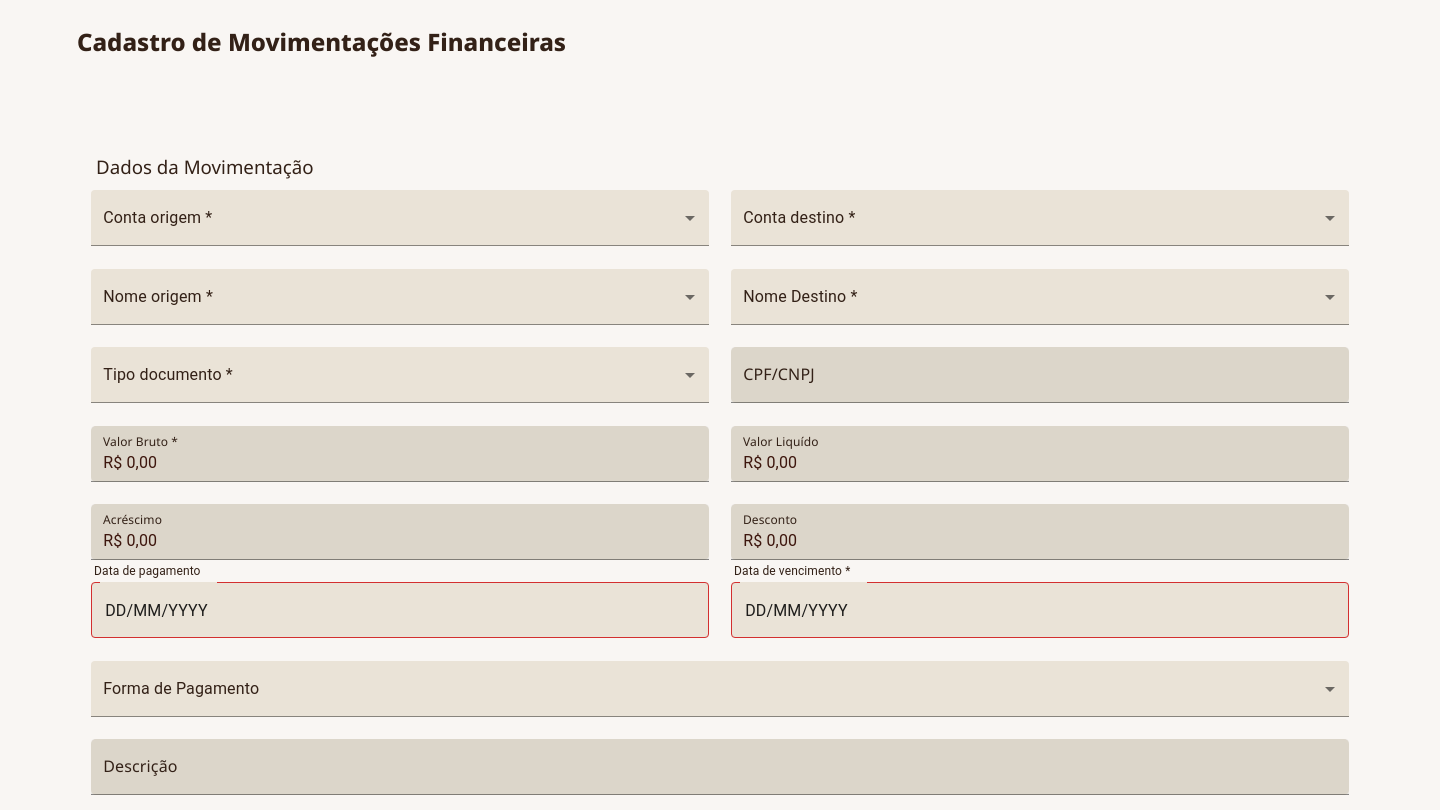
Test case: FinancialCreate Component › format CPF CNPJ correctly
# Testando a formatação do CPF
Step 1. Type "12345678901" into the field labelled "CPF/CNPJ" → (1040, 375), box [731,347,1349,403]
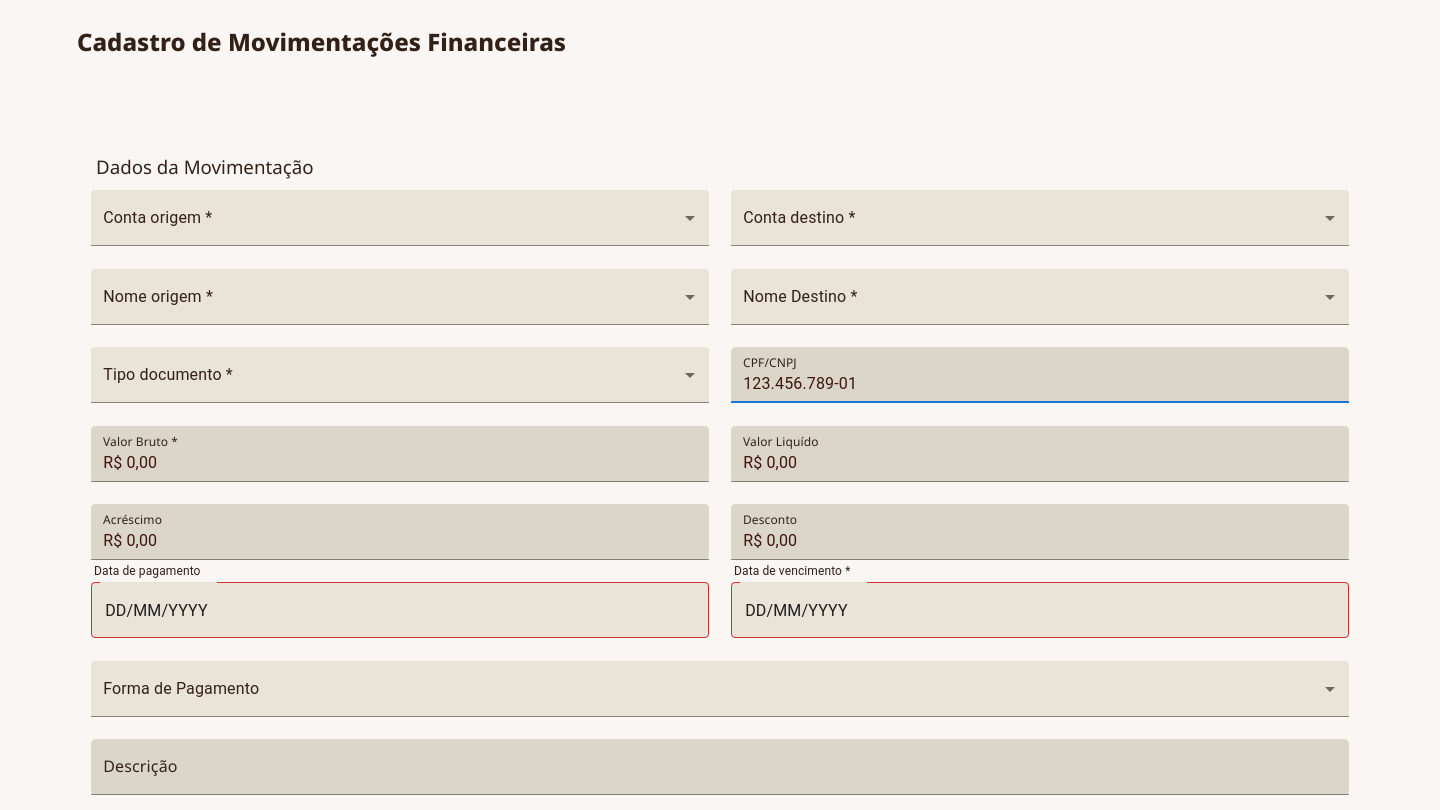
Expected: the field labelled "CPF/CNPJ" holds "123.456.789-01"
# Limpando o input e testando a formatação do CNPJ
Step 2. Replace the text in the field labelled "CPF/CNPJ" with "12345678000199" → (1040, 375), box [731,347,1349,403]
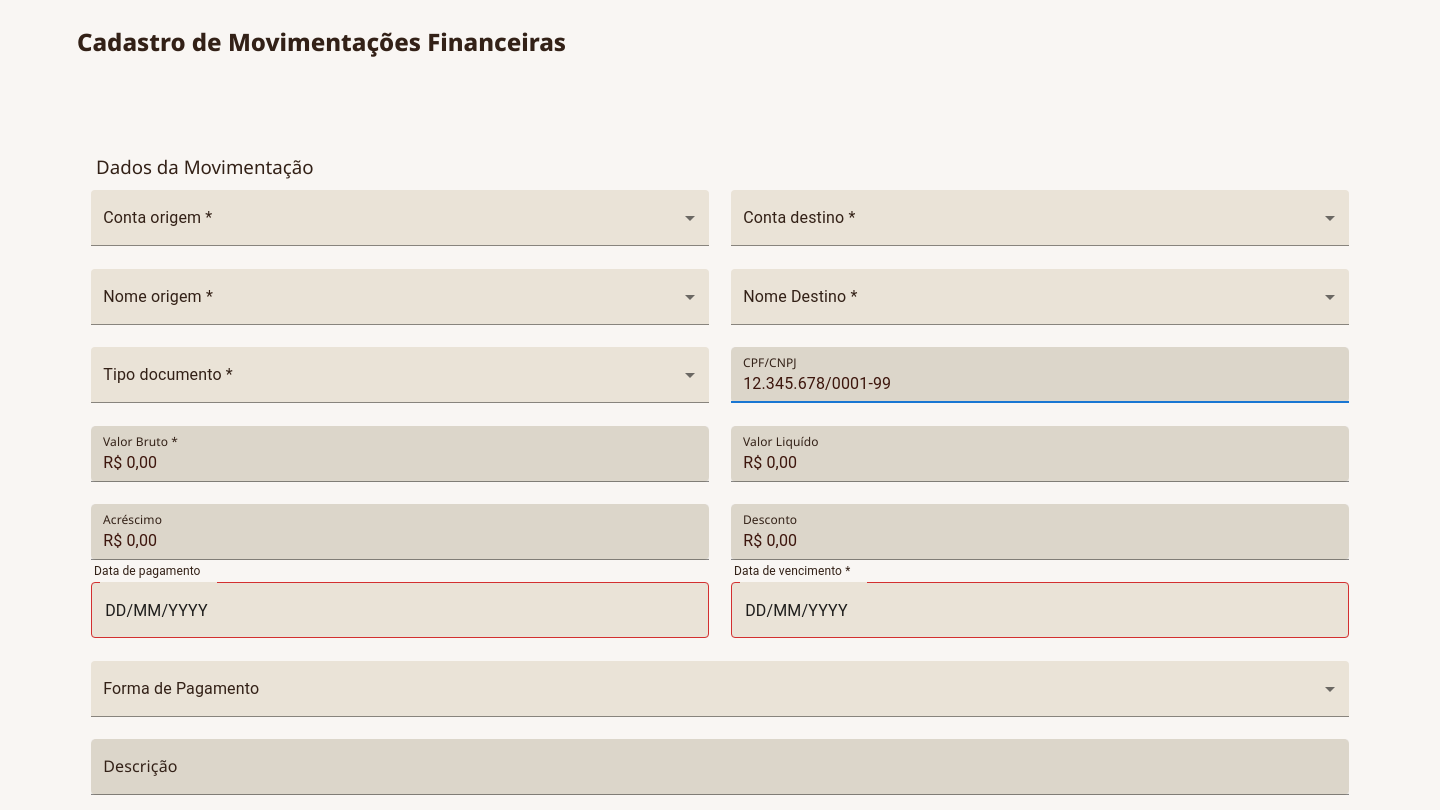
Expected: the field labelled "CPF/CNPJ" holds "12.345.678/0001-99", [731,347,1349,403]
